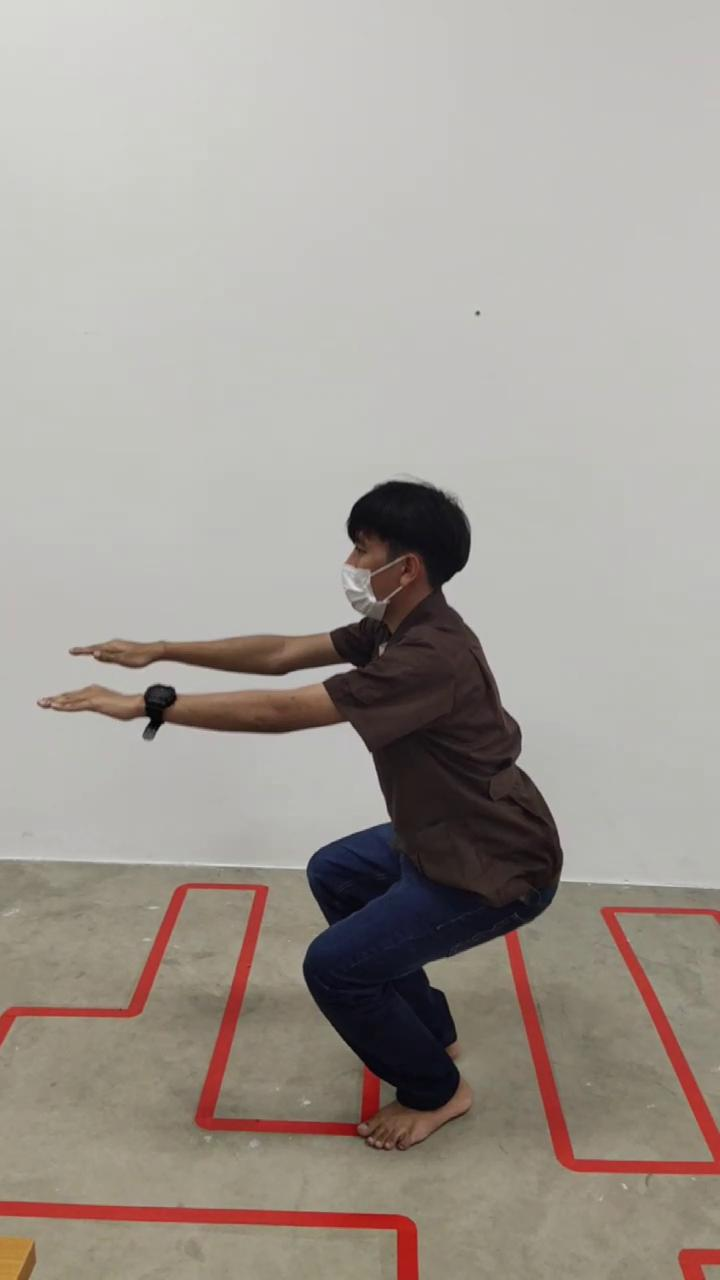squat down: (47, 479, 564, 1152)
